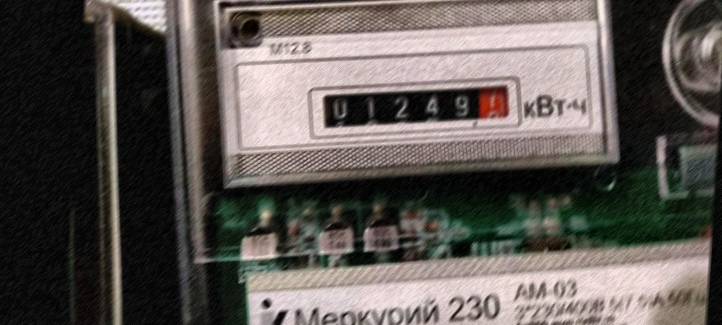0: (328, 92, 349, 119)
1: (360, 93, 377, 119)
2: (390, 93, 412, 120)
4: (423, 89, 442, 117)
7: (483, 85, 500, 110)
9: (452, 91, 471, 117)
screen: (299, 65, 536, 155)
